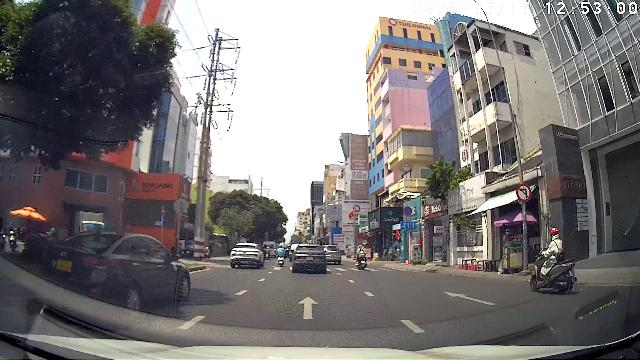123a-cam-re-trai: (516, 184, 532, 202)
